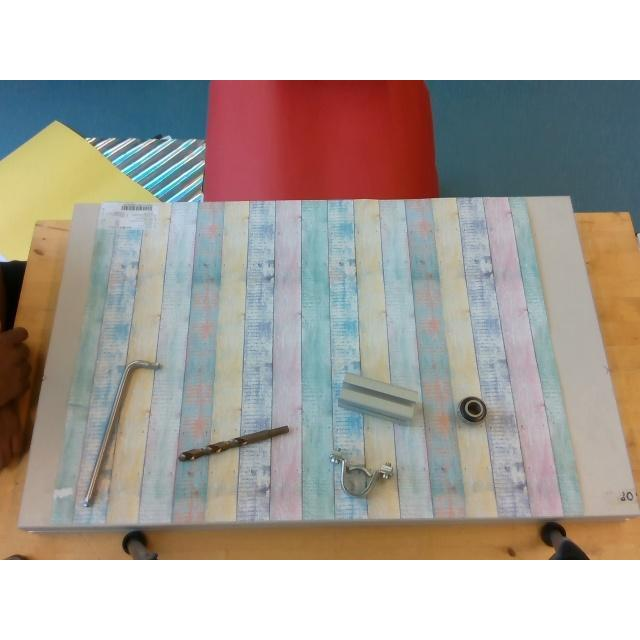AllenKey: (83, 360, 161, 506)
Bearing2: (458, 396, 486, 422)
Drill: (176, 425, 288, 461)
Housing: (331, 450, 394, 498)
S40_40_G: (340, 373, 420, 421)
